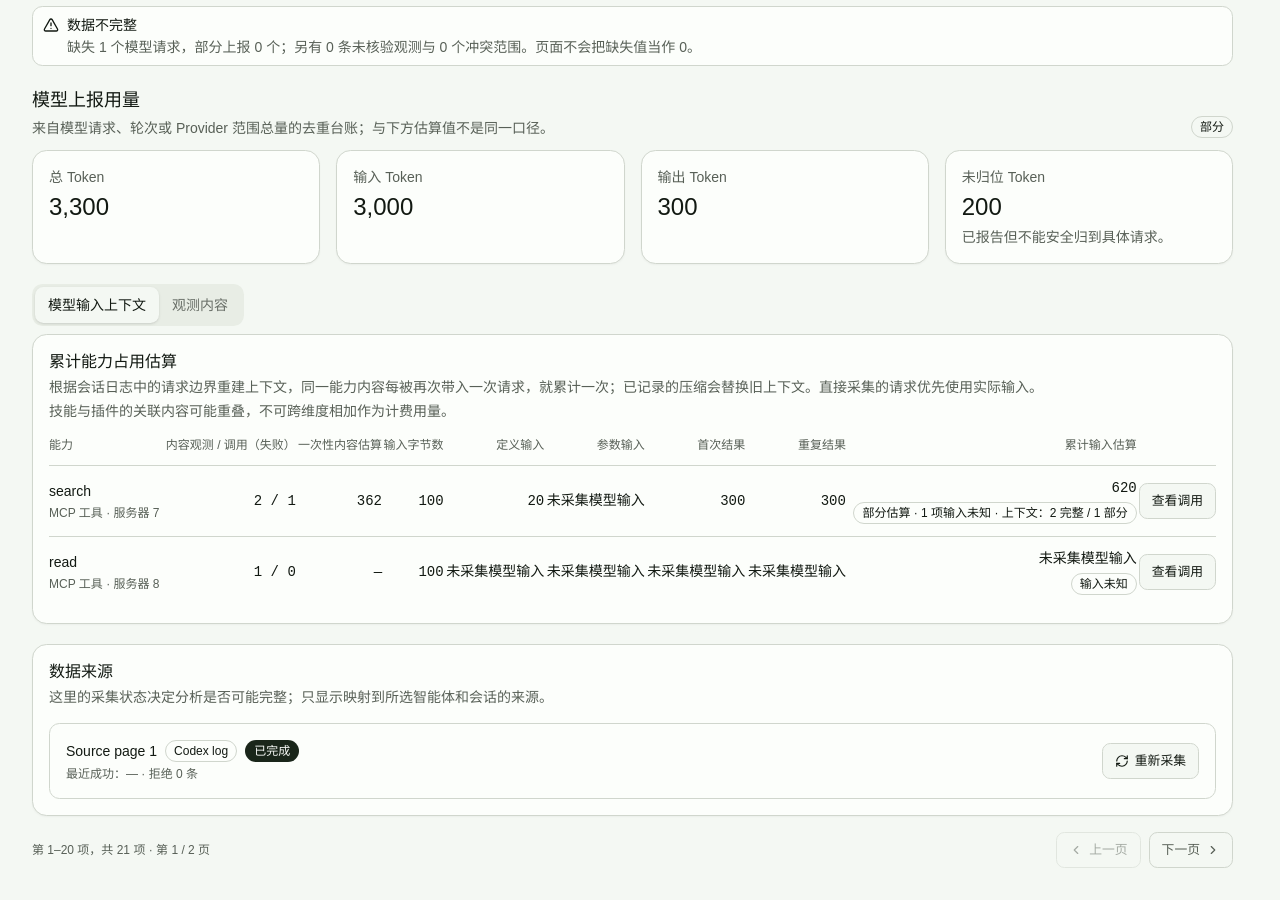
Scenario: loads source and exposure pages on demand instead of downloading every row
(page scrolled)
Expected: the text "Source page 1" is shown, [66,741,157,761]
Click the button "下一页".
click(1191, 850)  # box [1149,832,1233,868]
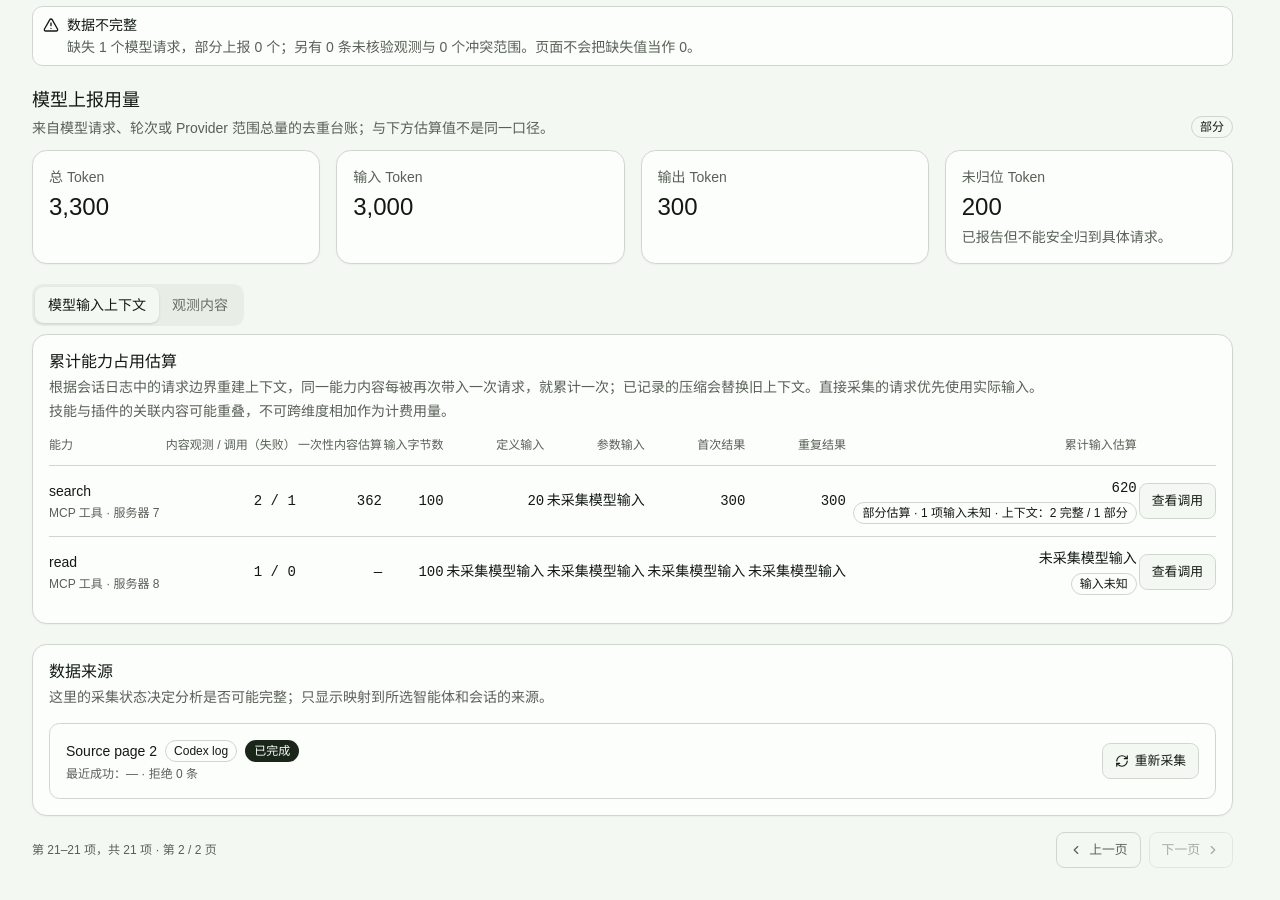
Expected: the text "Source page 2" is shown, [66,741,157,761]
Expected: the text "Source page 1" is gone
Click the button with aria-label "查看 search 的调用".
click(1177, 501)  # box [1139,483,1216,519]
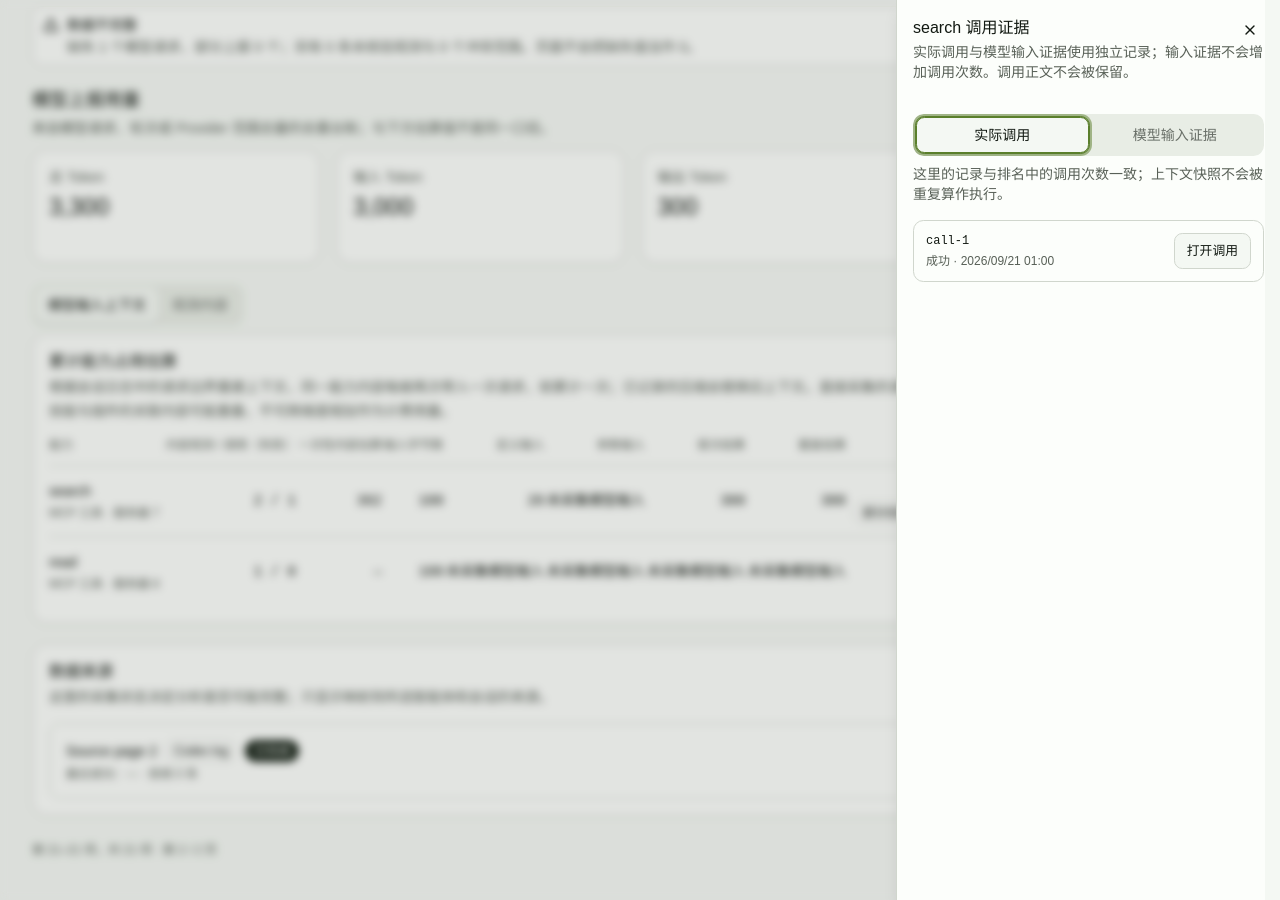
Click the button with aria-label "打开调用 call-1".
click(1212, 251)  # box [1174,233,1251,269]
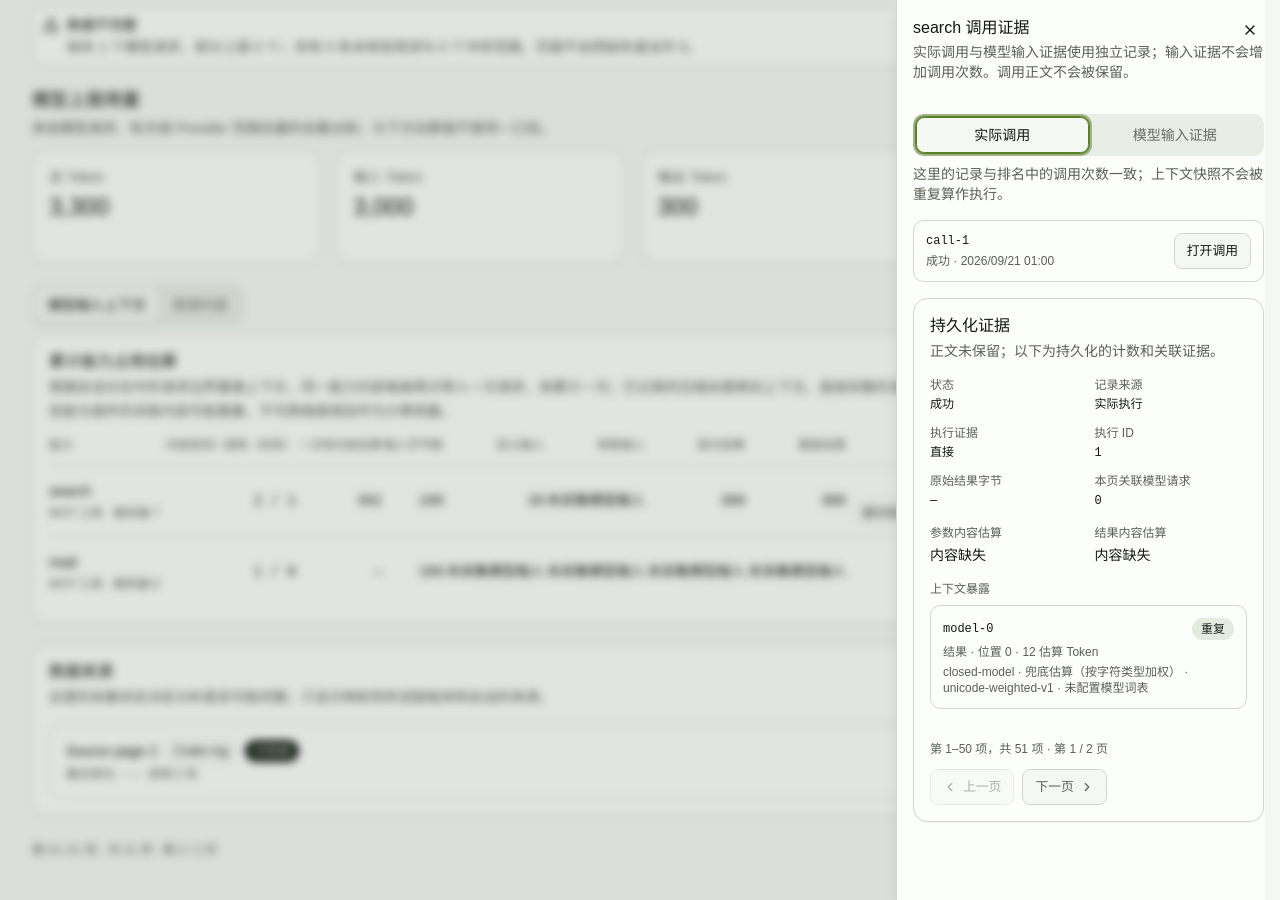
Click the button "下一页".
click(1065, 787)  # box [1022,769,1107,805]
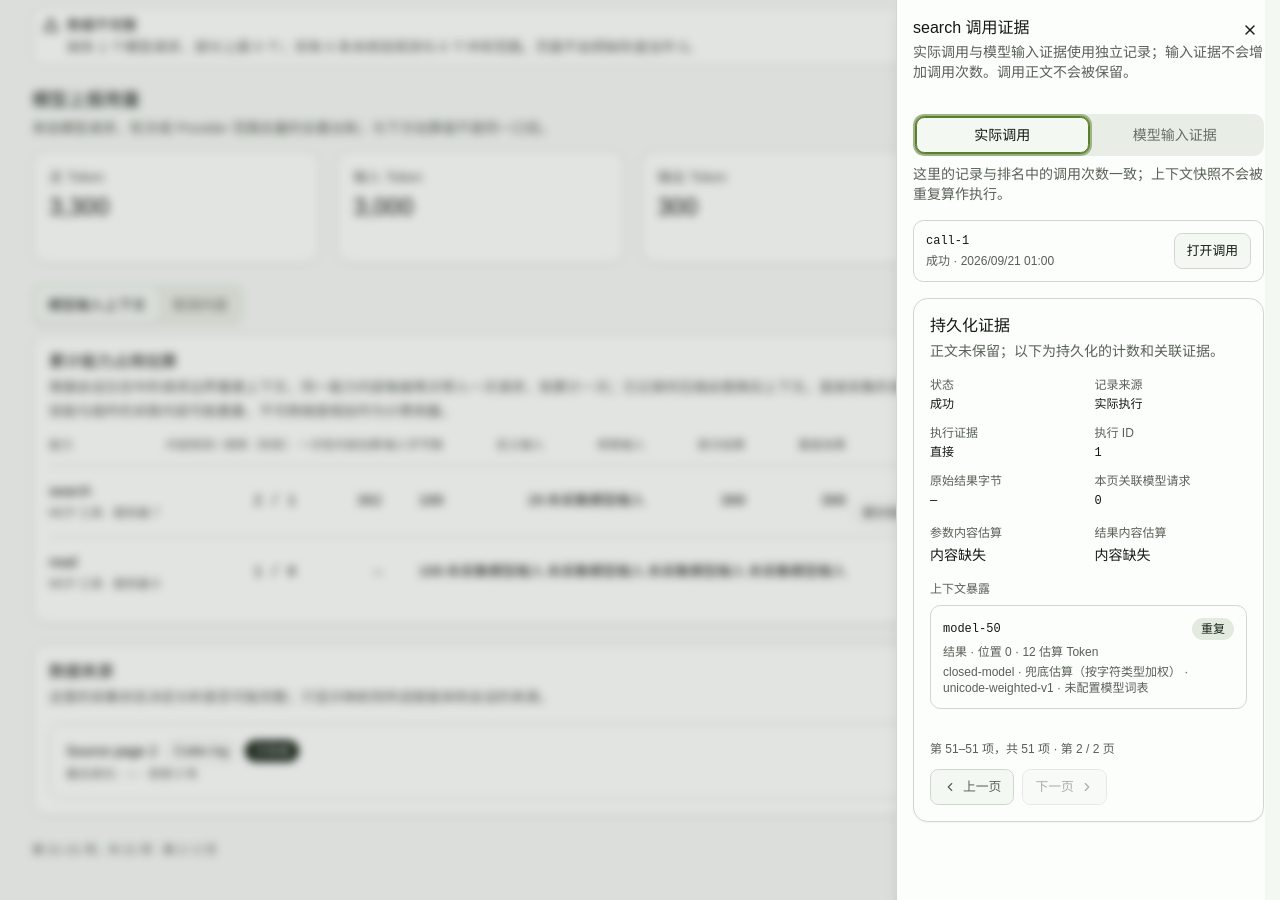
Expected: the text "model-50" is shown, [943,621,1001,637]
